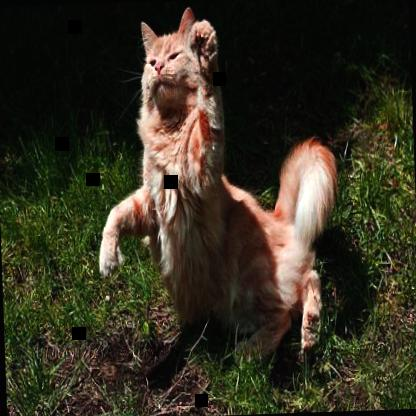cat: (90, 2, 344, 374)
